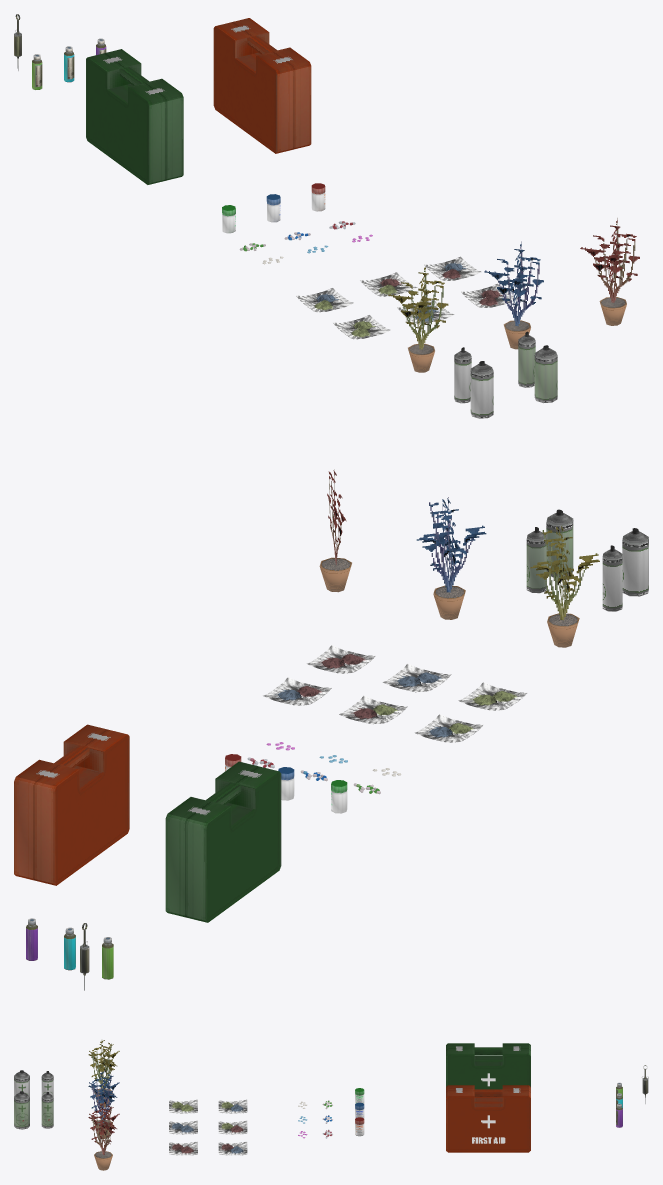
Rendered from retro_horror_-_healing_item_pack.glb.
3 renders of one model, top to bottom at view 1: azimuth 30°, elevation 25°; view 2: azimuth 150°, elevation 25°; view 3: azimuth 270°, elevation 25°, orthographic. The views are drawn at different scales.
Parts seen in each view (by area): view 1: FirstAidLow.001_15, FirstAidLow_0, HerbPot_1, HerbPot.002_27, HerbPot.001_12, SprayLow_8, SprayLow.001_13, SprayLowSlim_9, SprayLowSlim.001_14, HerbMixLow_2, HerbMixLow.003_24, HerbMixLow.005_26 (+2 smaller); view 2: FirstAidLow_0, FirstAidLow.001_15, HerbPot_1, HerbPot.001_12, SprayLow_8, HerbPot.002_27, SprayLowSlim_9, SprayLow.001_13, SprayLowSlim.001_14, HerbMixLow.002_11, HerbMixLow_2, HerbMixLow.003_24 (+3 smaller); view 3: FirstAidLow.001_15, FirstAidLow_0, HerbPot.002_27, HerbPot.001_12, HerbPot_1, SprayLow.001_13, SprayLowSlim.001_14, HerbMixLow.005_26, HerbMixLow.004_25, HerbMixLow.003_24, HerbMixLow_2, HerbMixLow.001_10 (+3 smaller).
Part boxes in pixels (<box>): FirstAidLow.001_15: <box>213,18,311,153</box>; FirstAidLow_0: <box>86,49,183,184</box>; HerbPot_1: <box>388,267,448,372</box>; HerbPot.002_27: <box>580,218,639,325</box>; HerbPot.001_12: <box>484,241,543,349</box>; SprayLow_8: <box>470,361,493,418</box>; SprayLow.001_13: <box>534,345,557,403</box>; SprayLowSlim_9: <box>454,347,471,403</box>; SprayLowSlim.001_14: <box>518,331,535,387</box>; HerbMixLow_2: <box>333,315,390,339</box>; HerbMixLow.003_24: <box>296,288,353,312</box>; HerbMixLow.005_26: <box>424,256,481,280</box>; FirstAidLow_0: <box>165,761,281,922</box>; FirstAidLow.001_15: <box>14,724,129,885</box>; HerbPot_1: <box>530,525,599,647</box>; HerbPot.001_12: <box>416,497,486,619</box>; SprayLow_8: <box>622,528,648,596</box>; HerbPot.002_27: <box>319,469,351,592</box>; SprayLowSlim_9: <box>602,545,622,611</box>; SprayLow.001_13: <box>546,509,573,577</box>; SprayLowSlim.001_14: <box>526,527,546,593</box>; HerbMixLow.002_11: <box>306,645,375,673</box>; HerbMixLow_2: <box>458,682,526,710</box>; HerbMixLow.003_24: <box>414,714,483,742</box>; FirstAidLow.001_15: <box>446,1085,530,1152</box>; FirstAidLow_0: <box>446,1043,530,1089</box>; HerbPot.002_27: <box>88,1102,119,1170</box>; HerbPot.001_12: <box>88,1071,119,1138</box>; HerbPot_1: <box>88,1040,119,1107</box>; SprayLow.001_13: <box>14,1091,29,1129</box>; SprayLowSlim.001_14: <box>41,1092,53,1128</box>; HerbMixLow.005_26: <box>218,1141,247,1155</box>; HerbMixLow.004_25: <box>218,1120,247,1134</box>; HerbMixLow.003_24: <box>218,1099,247,1113</box>; HerbMixLow_2: <box>169,1099,197,1113</box>; HerbMixLow.001_10: <box>169,1120,197,1134</box>.
Size of the model in its own units: 7.41 by 3.28 by 25.63.
Materials: 26 (26 with a texture image).
